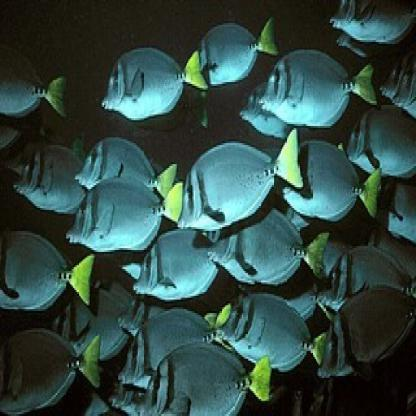surgeon: (179, 125, 300, 232), (203, 194, 328, 283), (259, 47, 380, 133), (216, 289, 329, 377), (145, 341, 270, 415), (67, 180, 186, 257), (1, 224, 96, 314), (100, 51, 210, 123)
